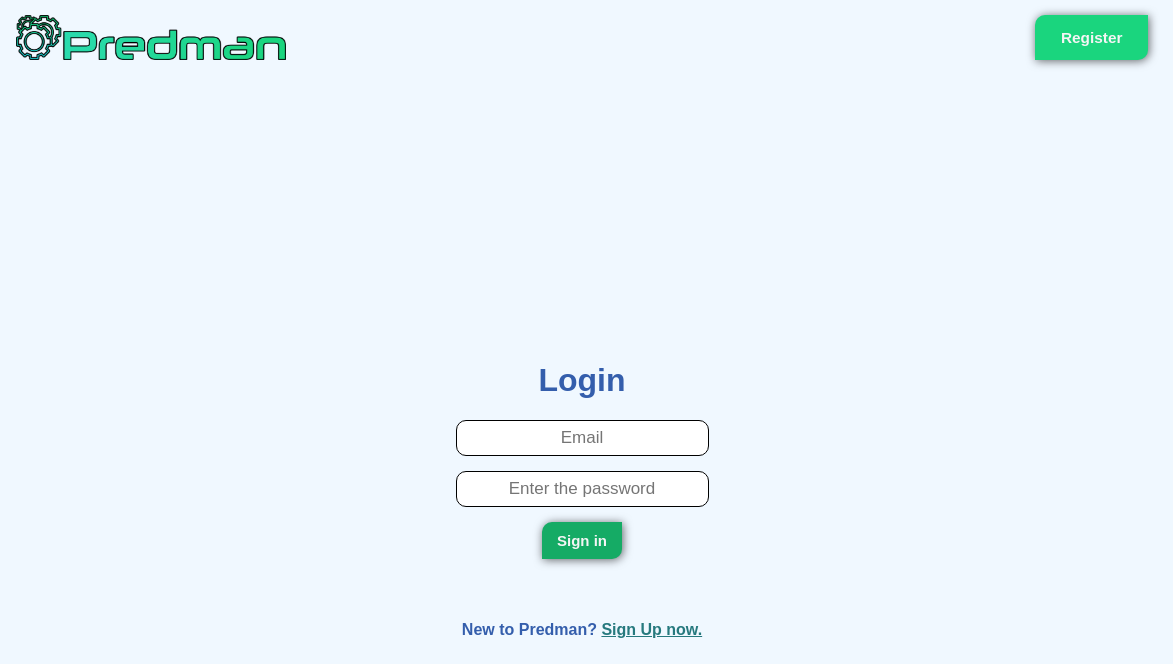
Test case: Login component › displays generic error message on unknown error
Type "test@example.com" into the field with placeholder "Email" at (582, 438), box [456,420,708,456]
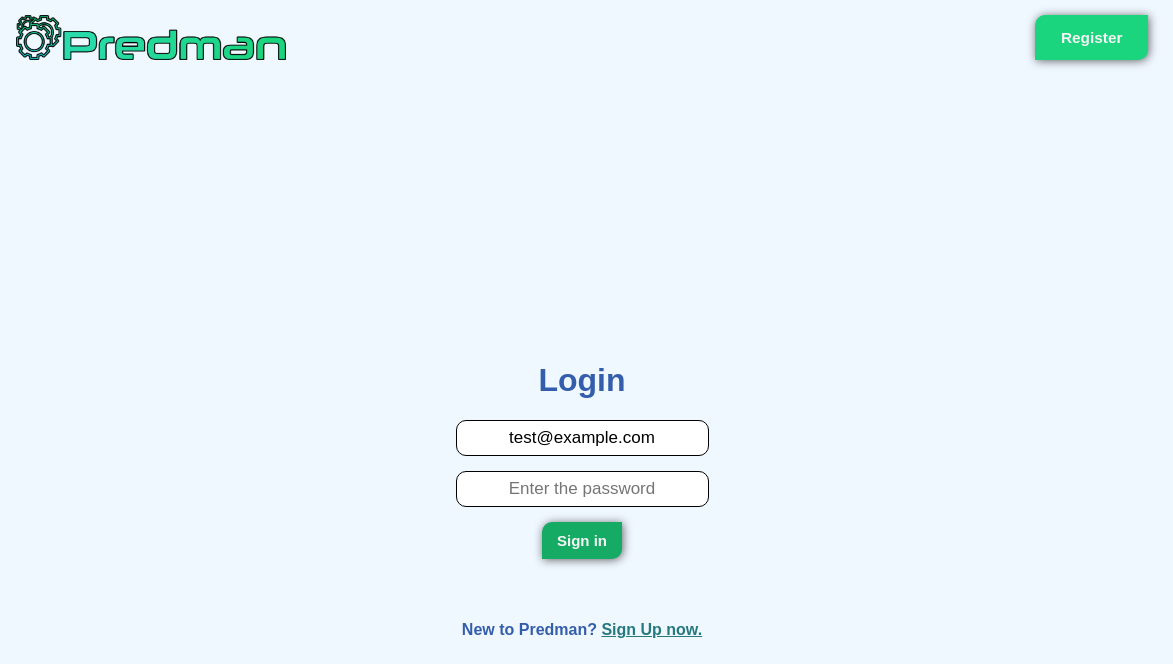
Type "password123" into the password field with placeholder "Enter the password" at (582, 489), box [456,471,708,507]
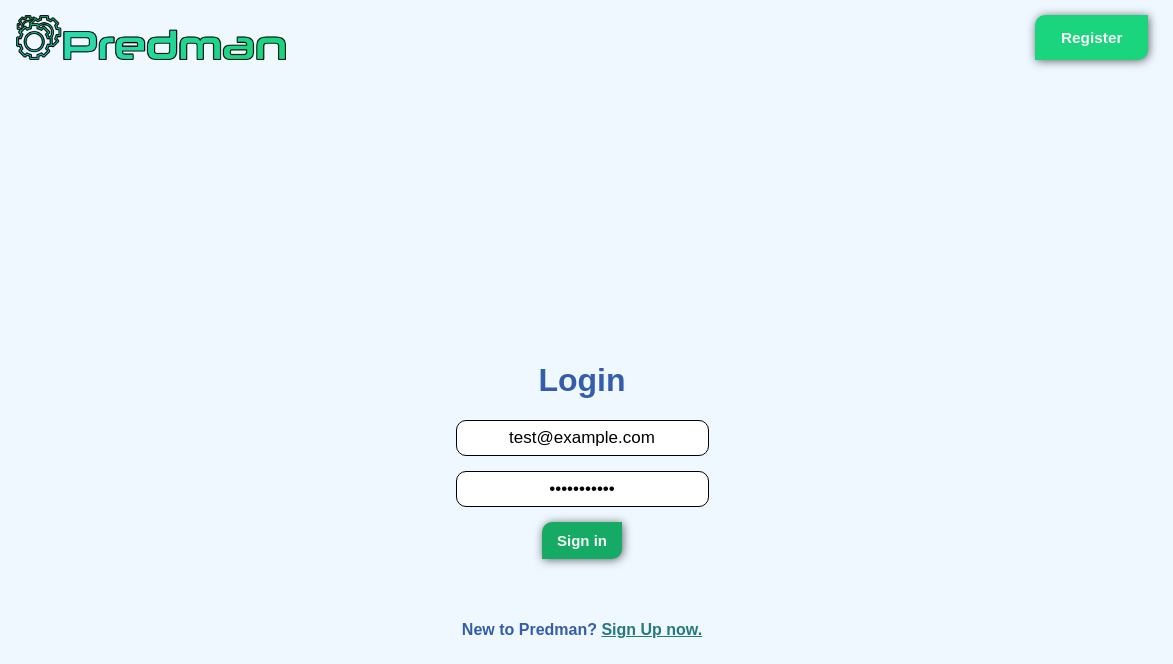
Click the button "Sign in" at (582, 541), box [542,522,622,559]
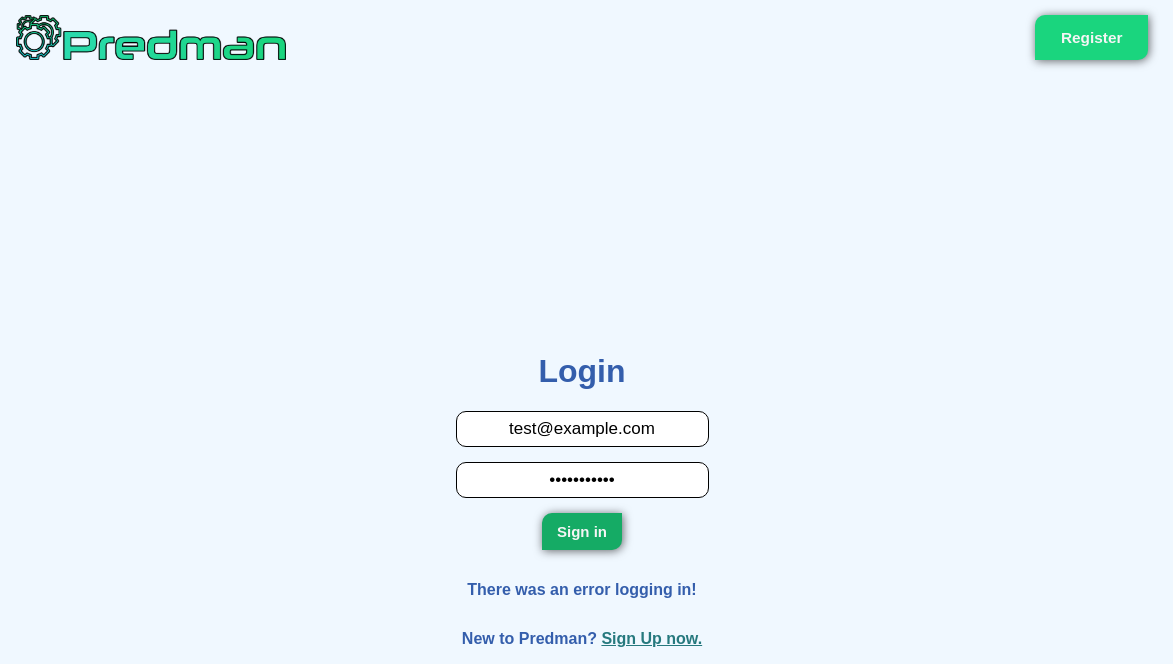
Check: the text "There was an error logging in!" is shown, box [467,581,697,599]
